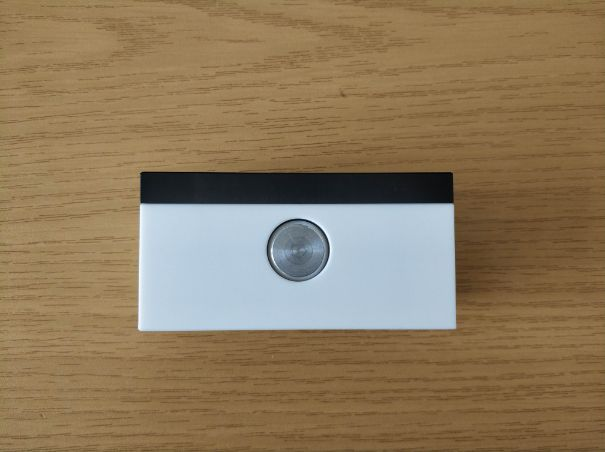black+white+silver: (136, 169, 460, 334)
